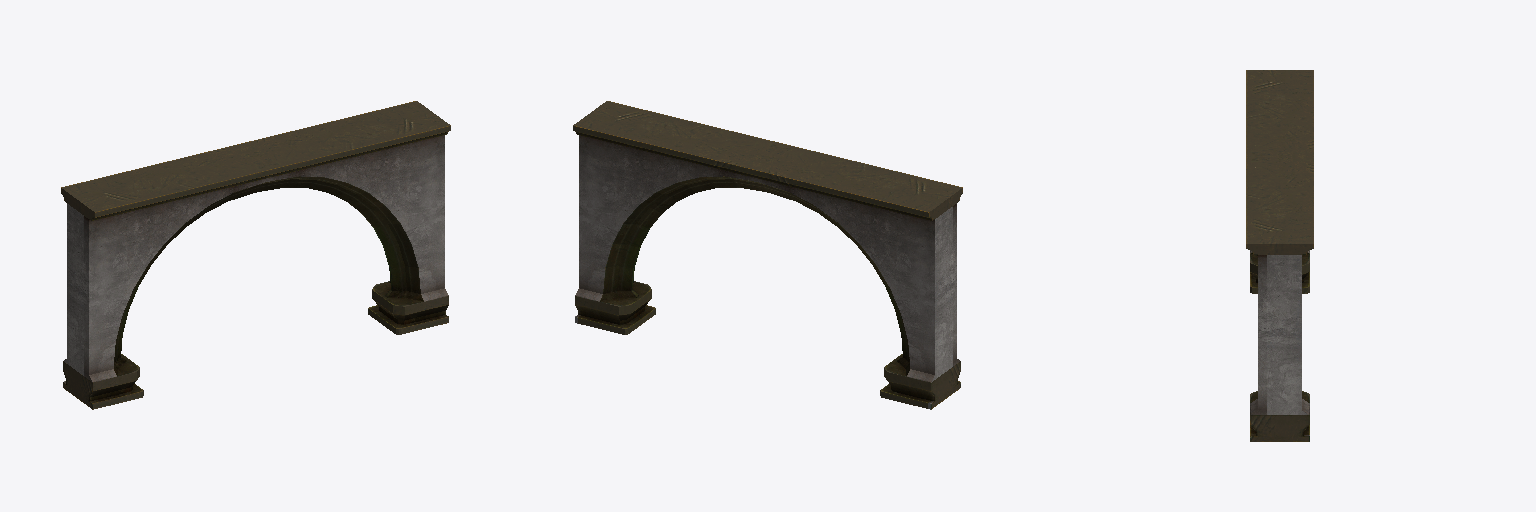
3 views of the same model, side by side, from view 1: azimuth 30°, elevation 25°; view 2: azimuth 150°, elevation 25°; view 3: azimuth 270°, elevation 25° (orthographic).
Parts seen in each view (by area): view 1: FishArchBMerged; view 2: FishArchBMerged; view 3: FishArchBMerged.
Part boxes in pixels (left/top/right/bottom): FishArchBMerged: left=61, top=101, right=450, bottom=409; FishArchBMerged: left=573, top=101, right=962, bottom=409; FishArchBMerged: left=1246, top=70, right=1313, bottom=441.
Size of the model in its own units: 480 by 256 by 80.
Materials: 1 (1 with a texture image).